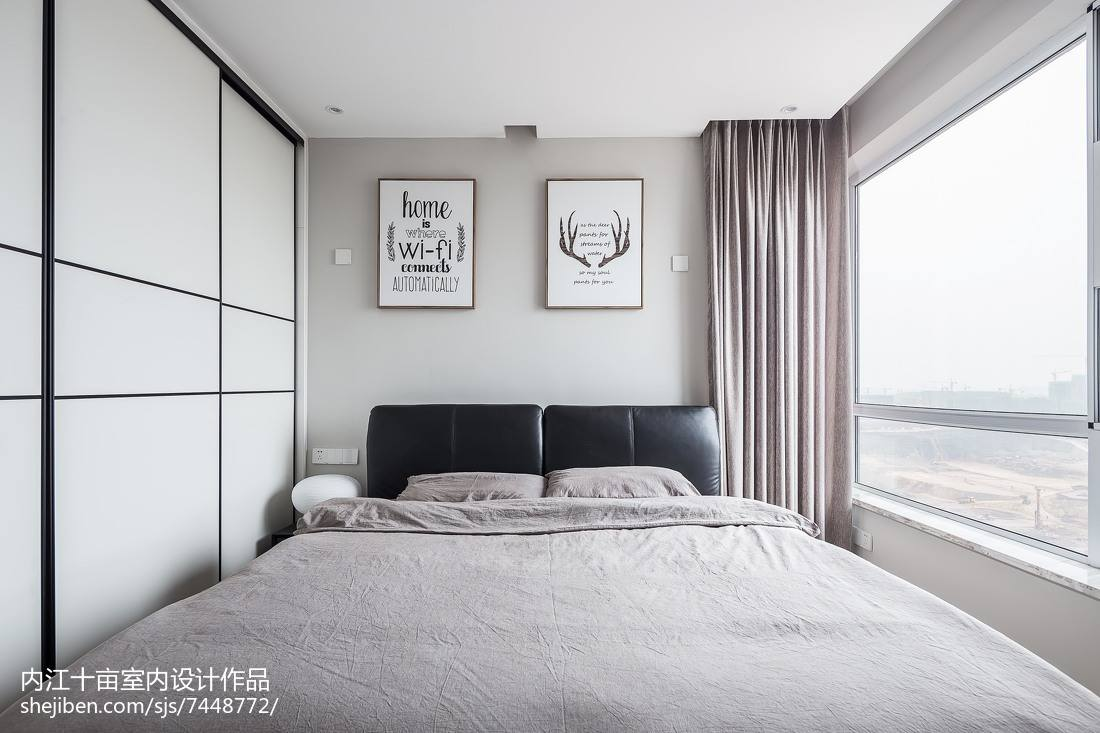床: (66, 494, 1088, 725)
枕头: (396, 463, 700, 506)
灯: (323, 102, 346, 120), (773, 103, 799, 118)
